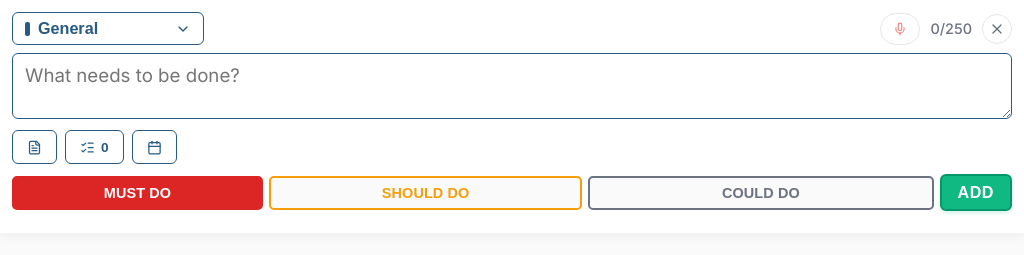
Test: displays full list of projects when project dropdown is opened
This screenshot has width=1024, height=255.
Click on the active project trigger button
Click the button "General".
click(108, 28)  # box [12,12,204,45]
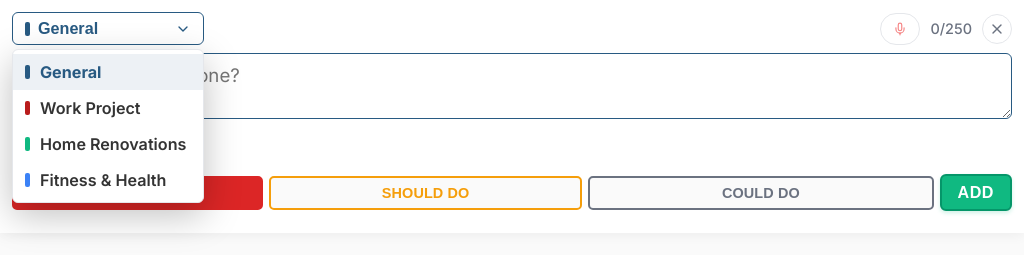
Expected: the text "Work Project" is shown, [40,98,141,118]
Expected: the text "Home Renovations" is shown, [40,134,186,154]
Expected: the text "Fitness & Health" is shown, [40,170,166,190]
